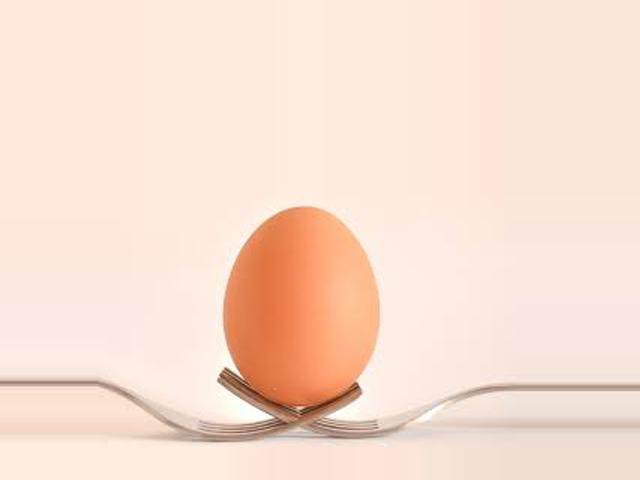egg: (224, 207, 380, 406)
